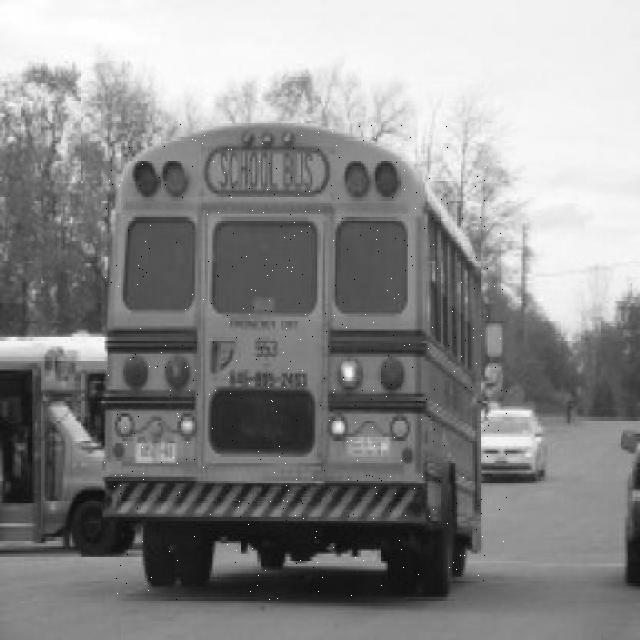Bus- Small: (103, 123, 507, 600)
